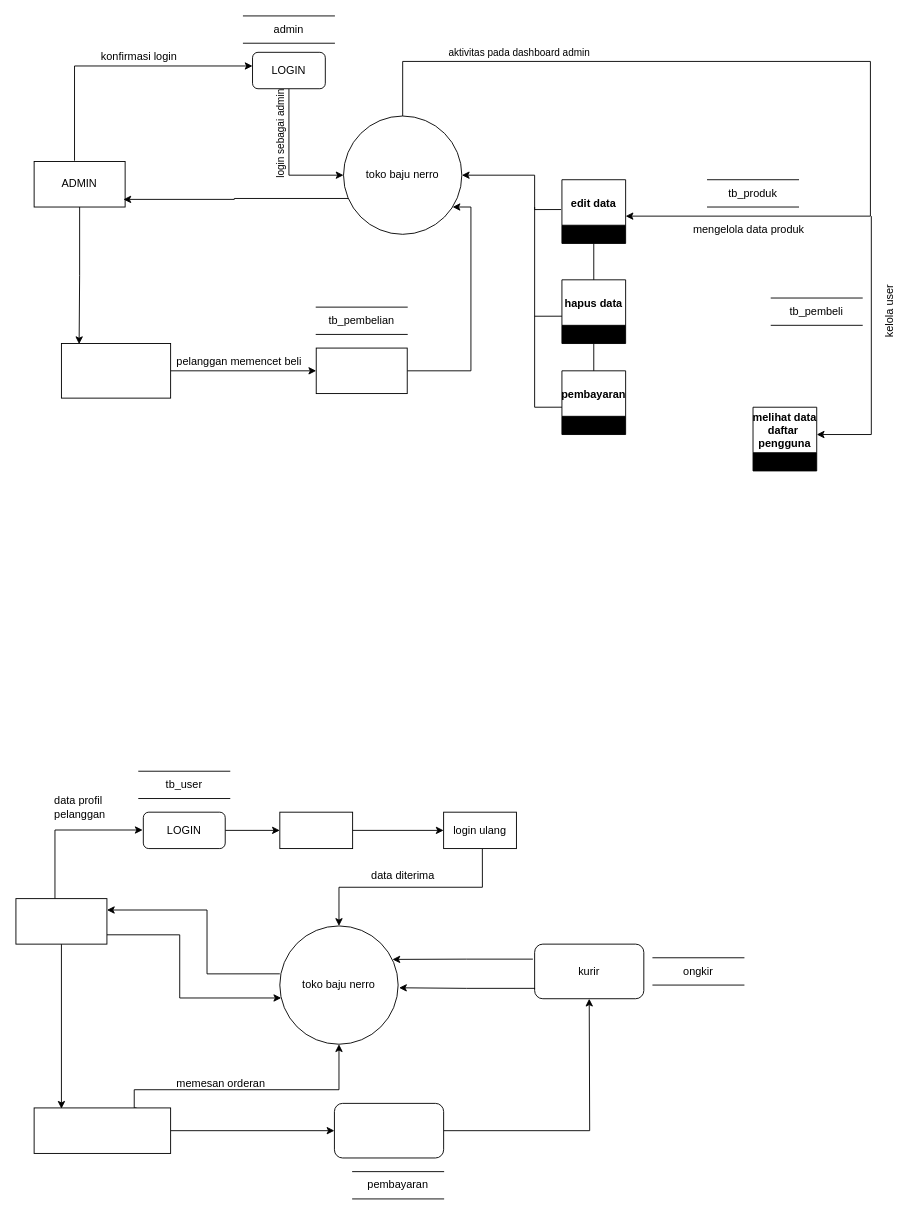
The diagram is 919 pixels wide and 1215 high, and some of its shapes have lost their labels. The centre of each missing label's shape, as x and y in pixels:
"acc pembayaran" belongs at pixel 361 370.
"memesan" belongs at pixel 102 1130.
"metode pembayaran" belongs at pixel 389 1130.
"pelanggan memesan" belongs at pixel 116 370.
"USER" belongs at pixel 61 921.
"verifikasi" belongs at pixel 316 830.
